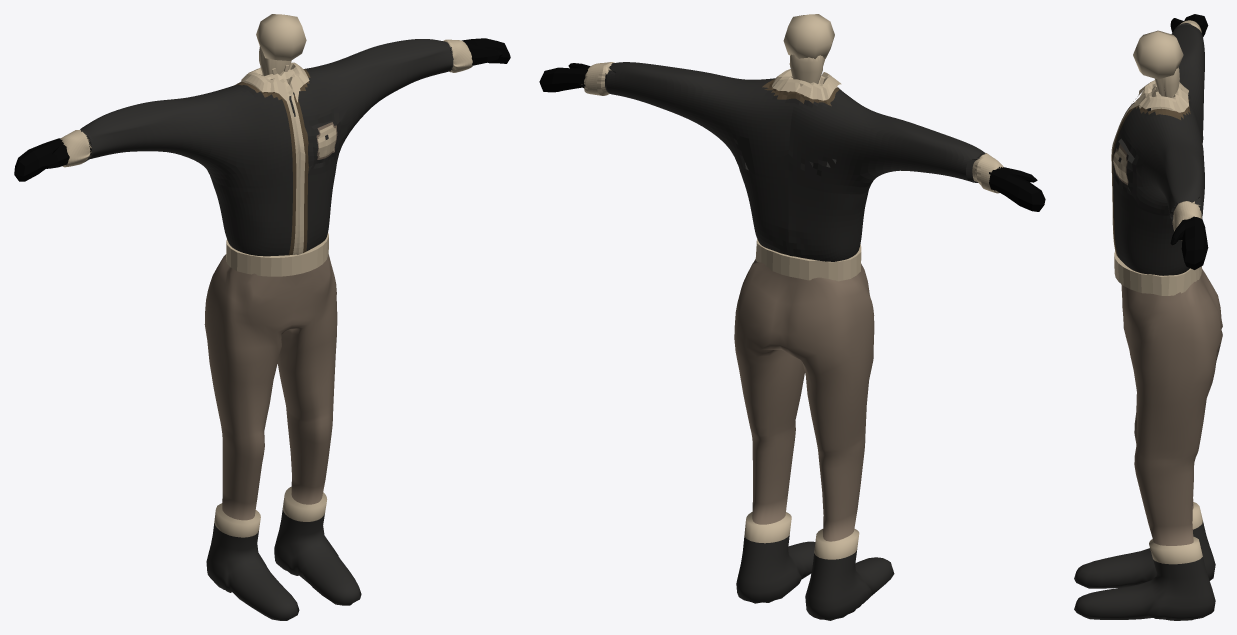
The model's file is MixamoModel.fbx.
The picture shows the model from 3 angles, left to right: view 1: azimuth 30°, elevation 25°; view 2: azimuth 150°, elevation 25°; view 3: azimuth 270°, elevation 25°; orthographic projection. The views are drawn at different scales.
Visible parts, largest first — view 1: Player; view 2: Player; view 3: Player.
Part boxes in pixels (x1,y1,x2,y2): Player: (14, 14, 510, 620); Player: (539, 14, 1045, 620); Player: (1074, 14, 1222, 620).
Bounding box in the file's own units: 1149 × 1264 × 300.
